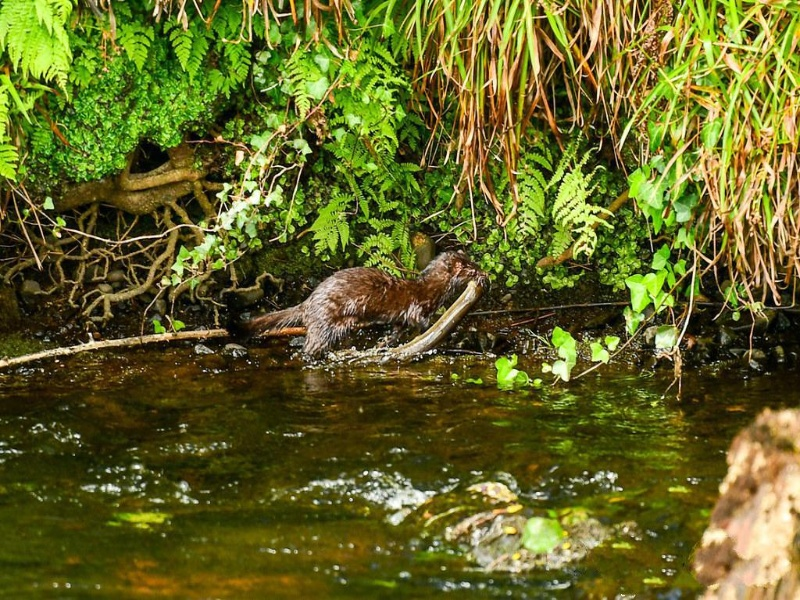minkish: (236, 246, 483, 363)
